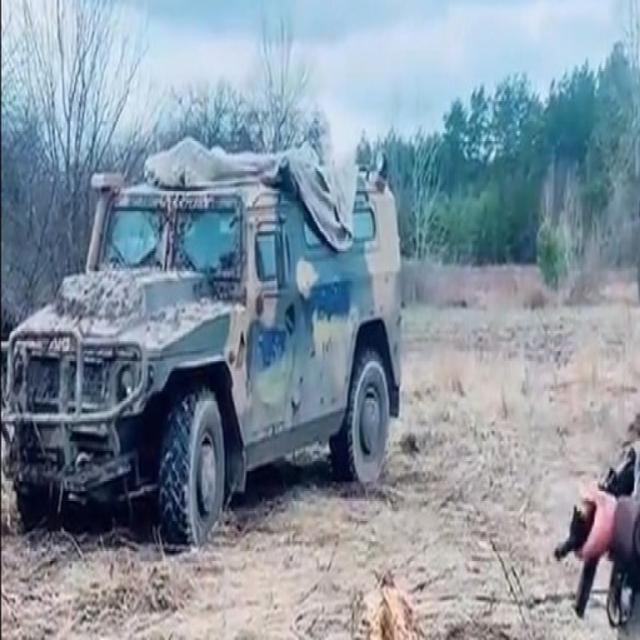CAR: (1, 144, 404, 558)
